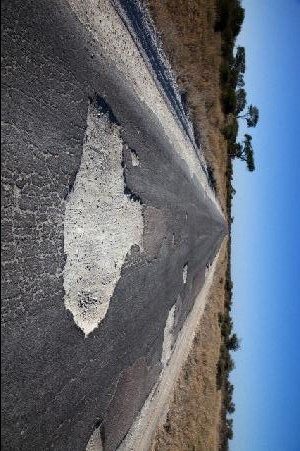pothole: (61, 90, 147, 339), (159, 302, 181, 365), (84, 419, 108, 451), (129, 147, 141, 169), (181, 261, 190, 285)
